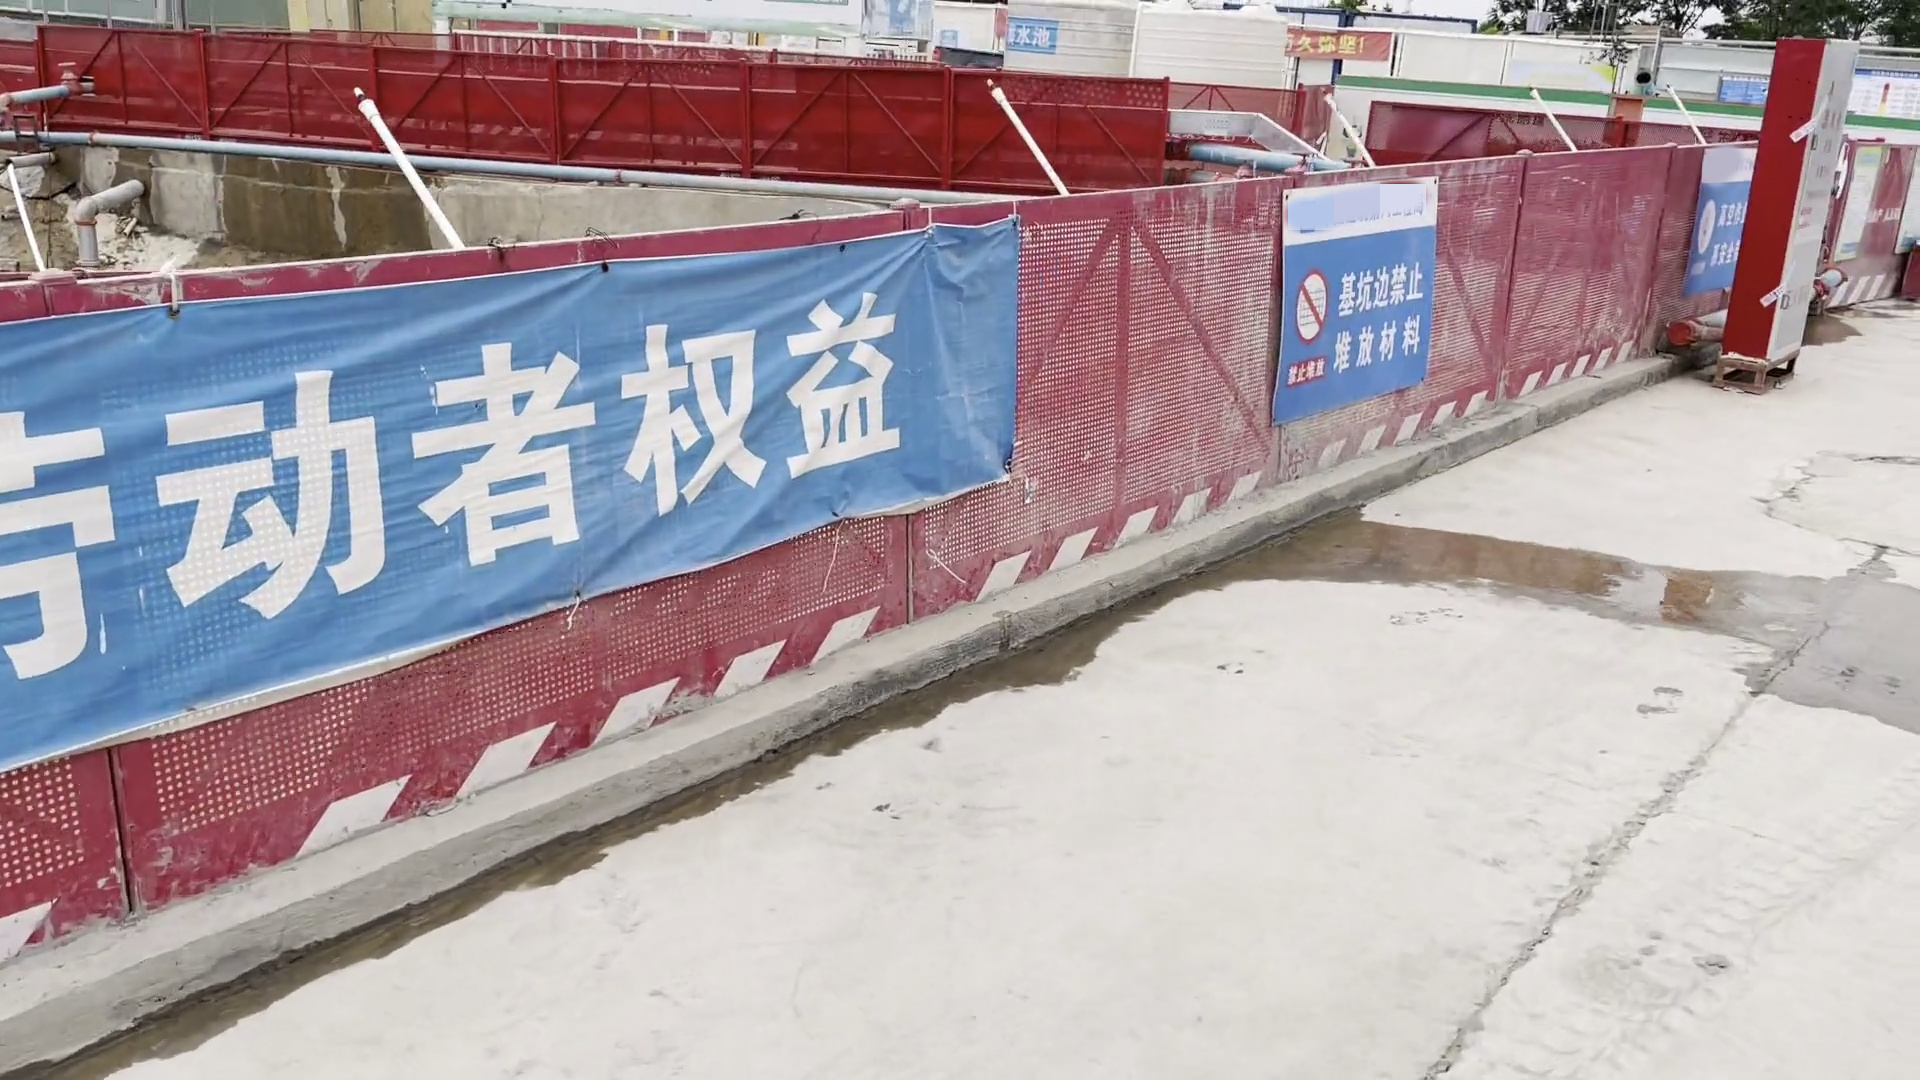fence: (1, 218, 840, 939), (843, 167, 1451, 644), (26, 29, 1178, 178), (1452, 138, 1899, 413)
slogan: (1, 218, 1019, 775), (1271, 177, 1427, 415), (1693, 146, 1745, 294), (1846, 65, 1920, 120), (1283, 32, 1404, 61), (1002, 21, 1060, 46), (1720, 71, 1762, 105)
